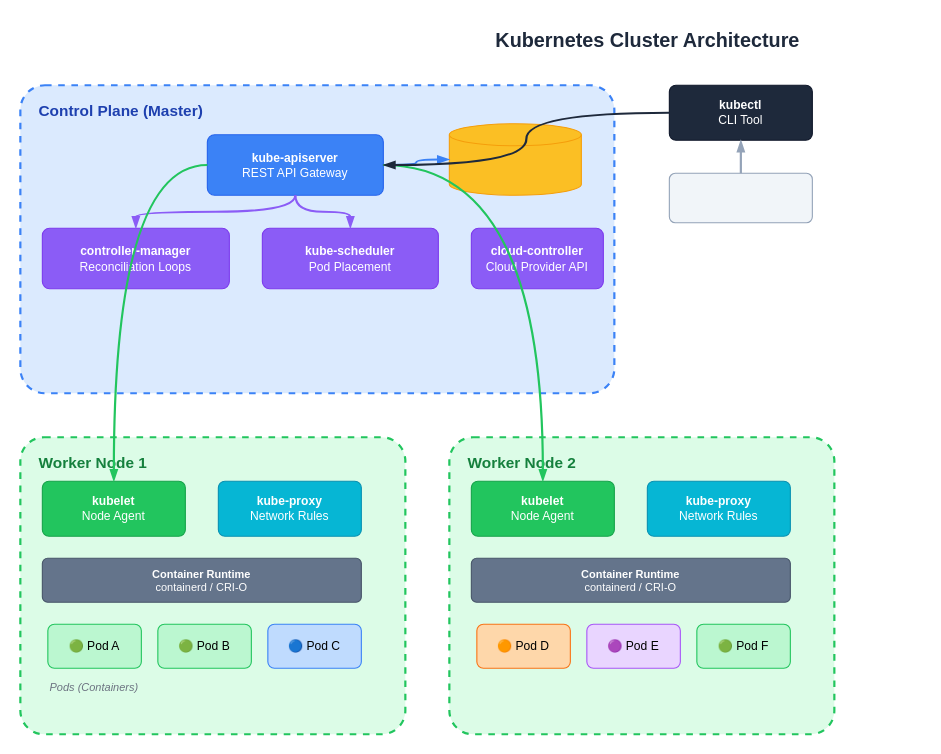
Some shapes in this 941 by 754 pixel diagram are drawn without their labels. The centre of each missing label's shape, as x and y in pixels:
etcd Key-Value Store: [514,159]
👤 Users / CI-CD: [740,197]
